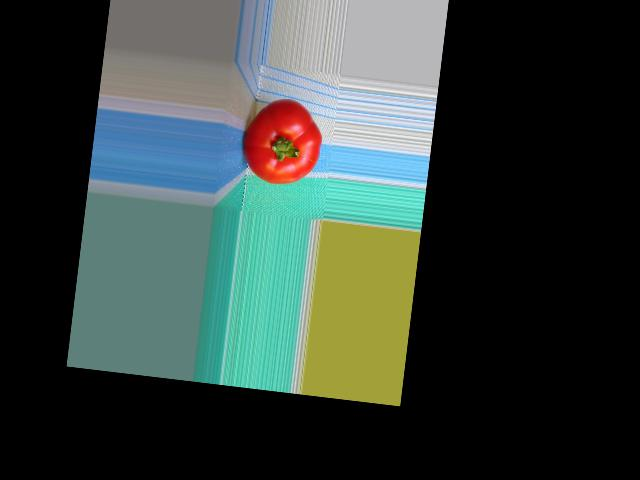tomato: (238, 95, 326, 188)
